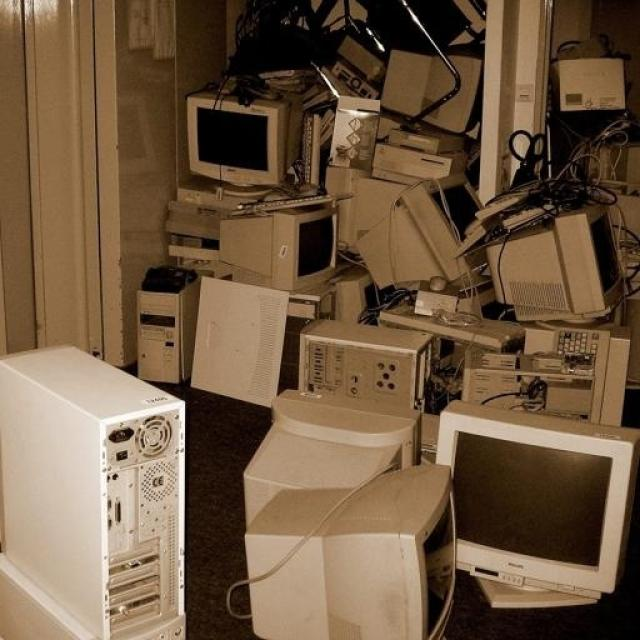E-waste: (14, 7, 640, 625)
